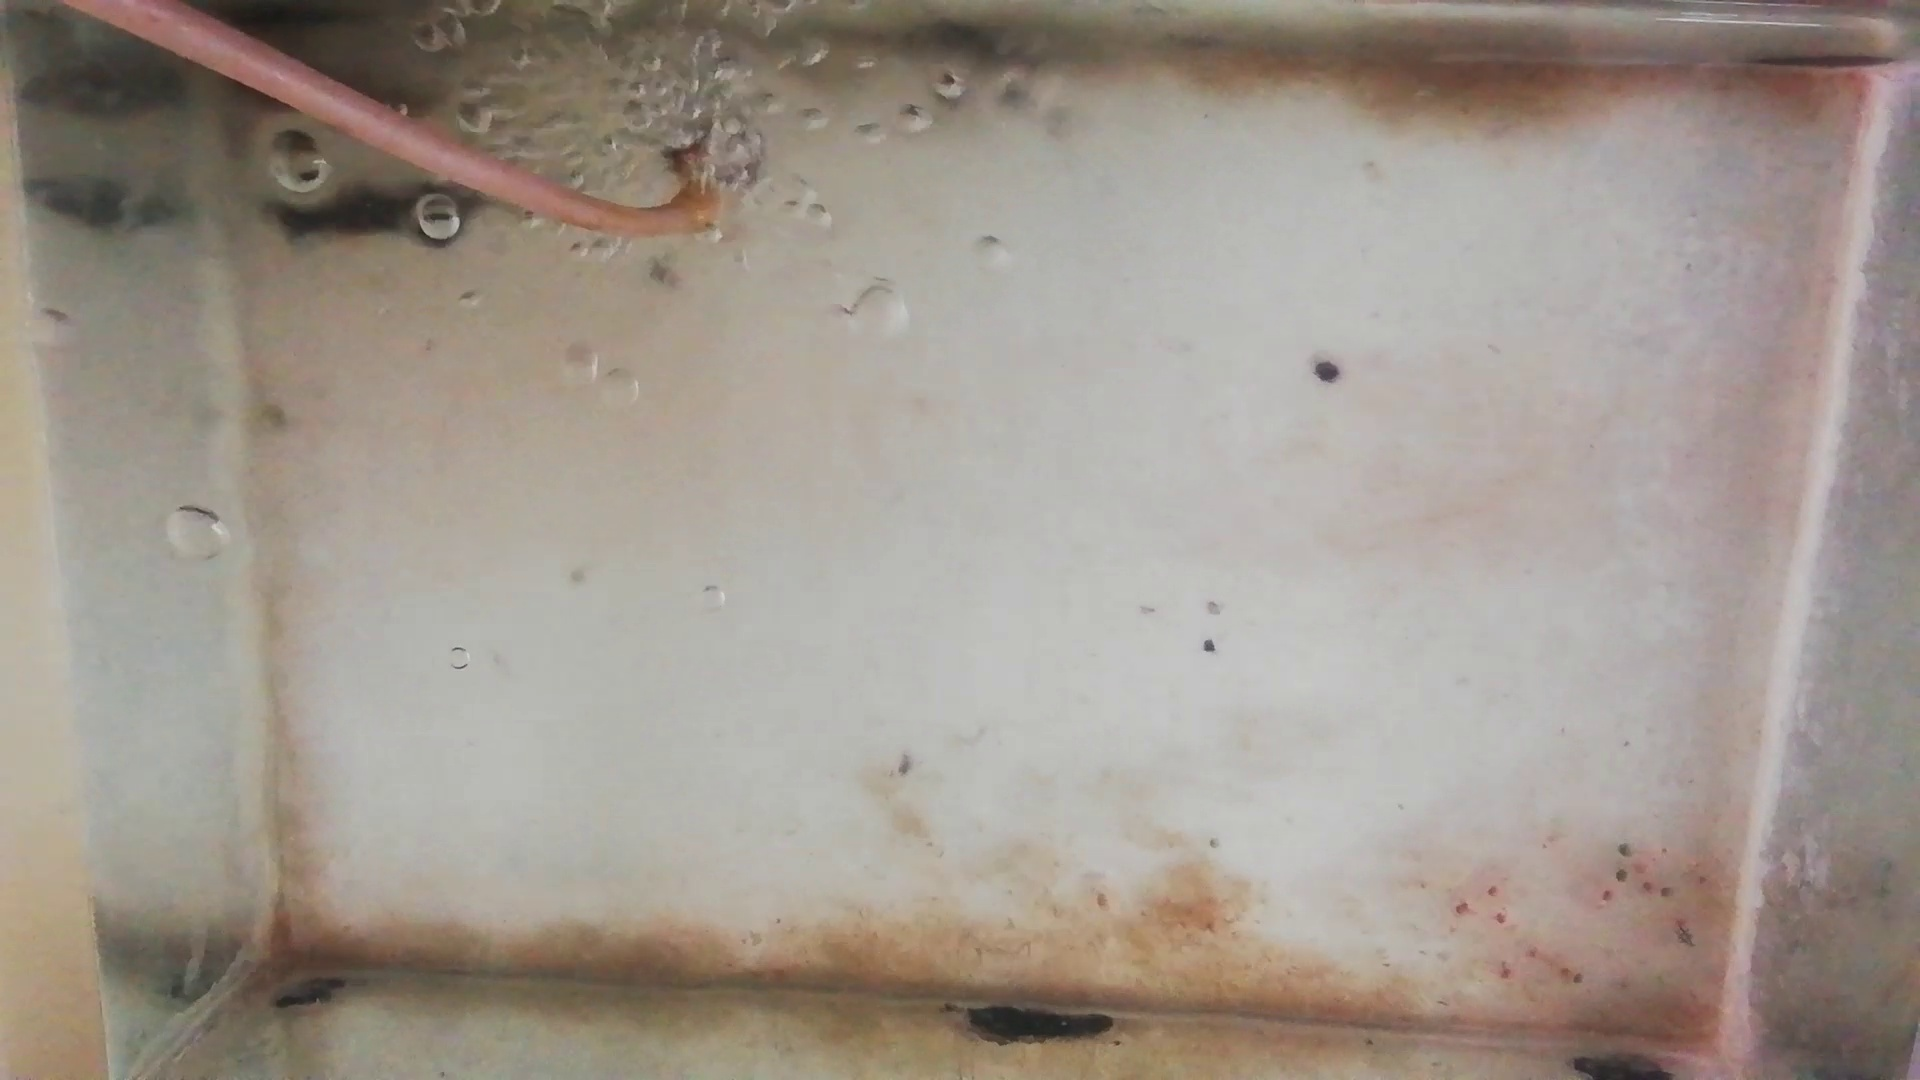fish: (258, 187, 479, 245), (232, 65, 446, 119)
